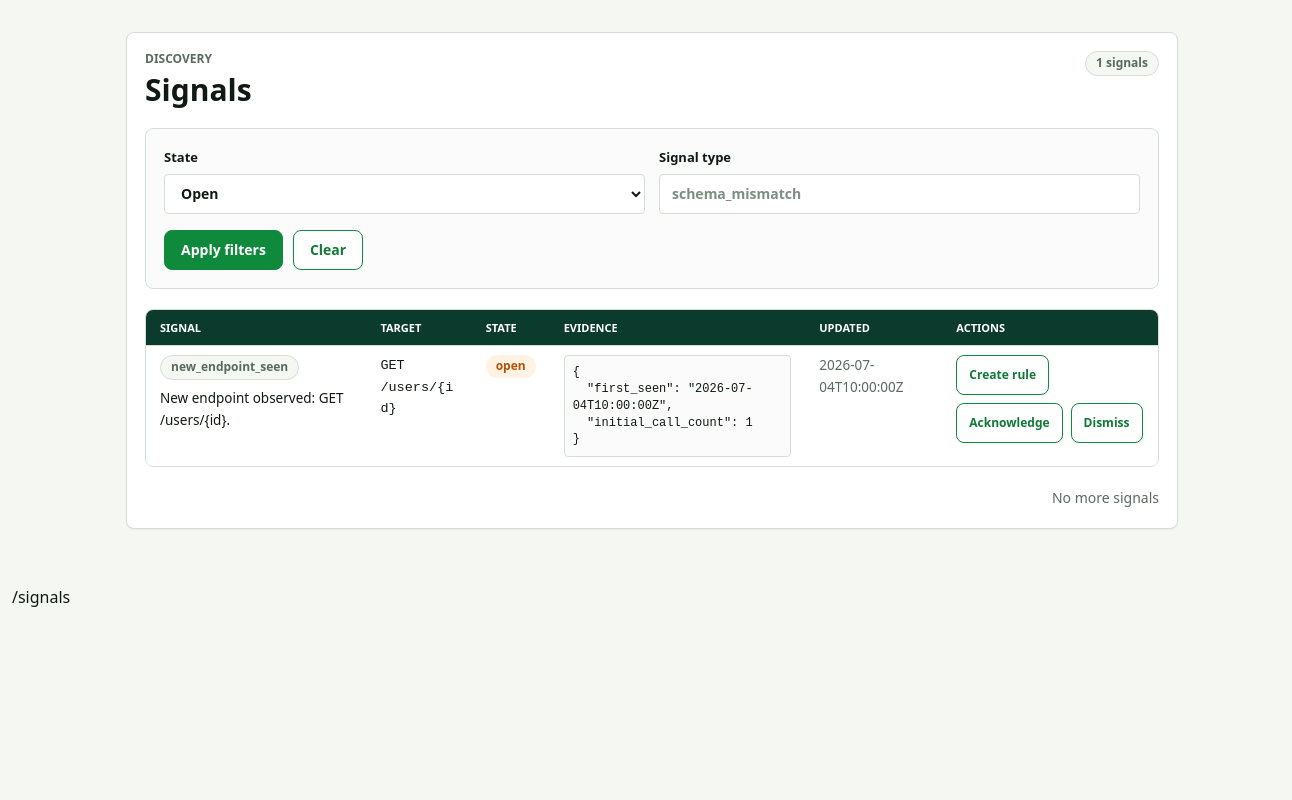
Test case: SignalsView › acknowledges and dismisses signals
This screenshot has width=1292, height=800.
Expected: the text "new_endpoint_seen" is shown, [160,355,299,380]
Click the button with aria-label "Acknowledge signal sig-action".
click(1009, 423)  # box [956,403,1063,443]
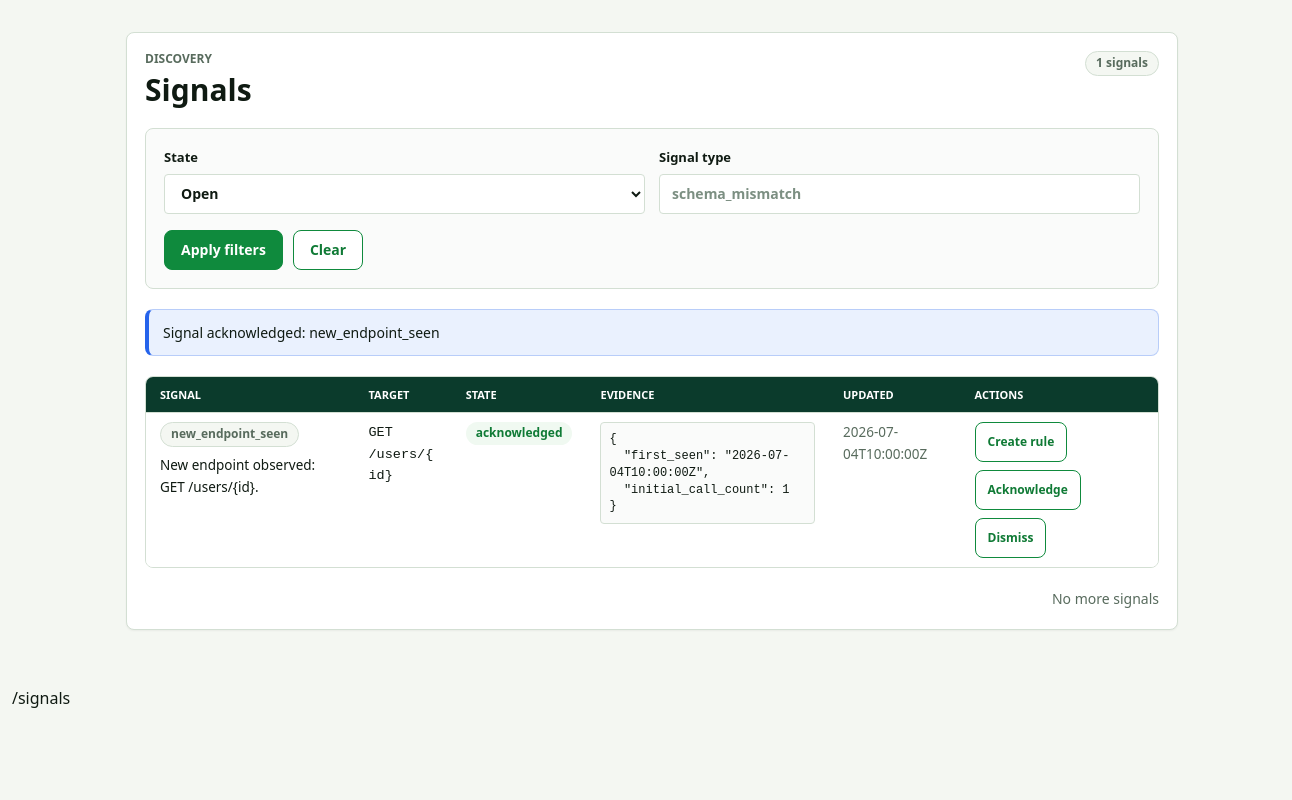
Now the text "acknowledged" is shown, box [466,422,572,445]
Click the button with aria-label "Dismiss signal sig-action".
click(1010, 538)  # box [974,518,1046,558]
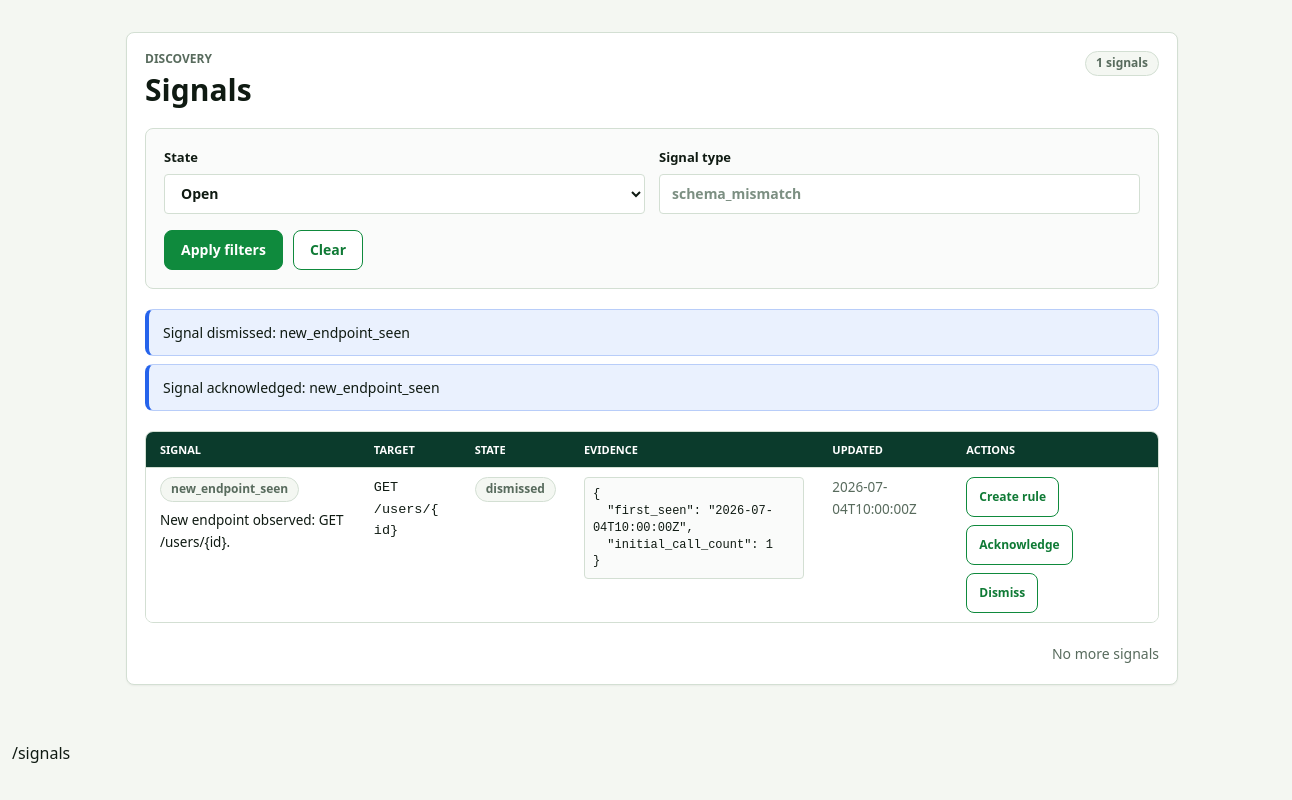
Now the text "dismissed" is shown, box [475,477,556,502]
